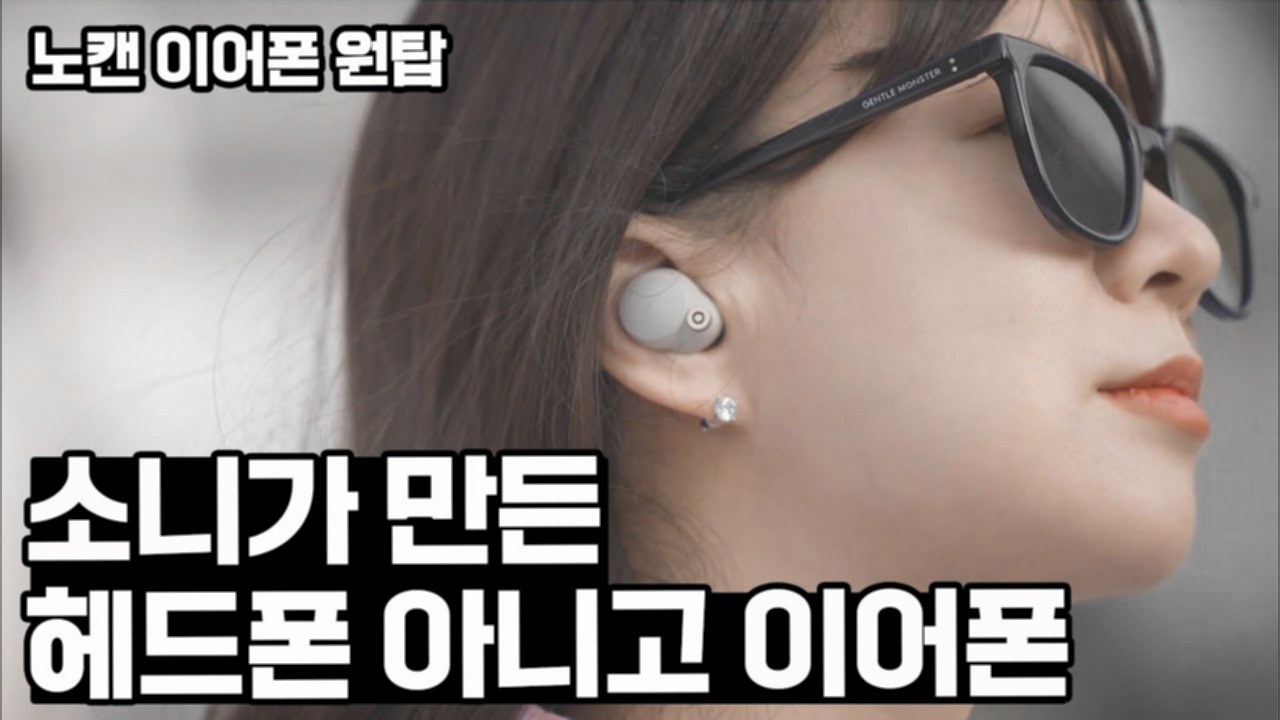earphone: (569, 207, 755, 429)
